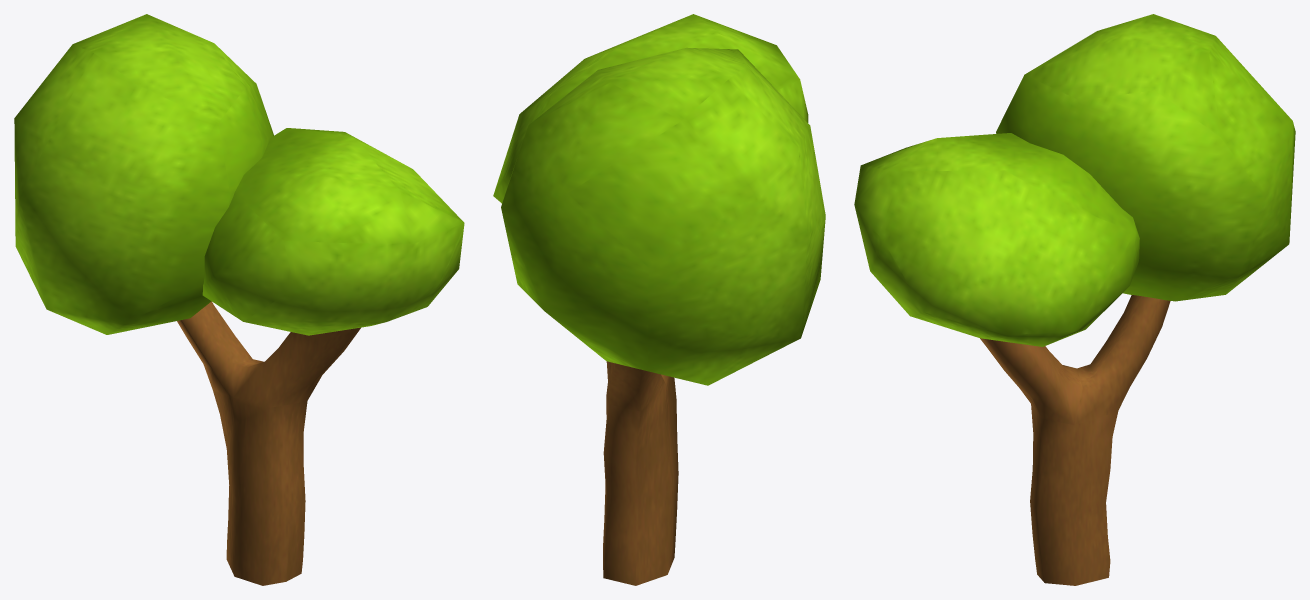
File: Tree_01.fbx
3 views of the same model, side by side, from view 1: azimuth 30°, elevation 25°; view 2: azimuth 150°, elevation 25°; view 3: azimuth 270°, elevation 25° (orthographic). The views are drawn at different scales.
Visible parts, largest first — view 1: Cube; view 2: Cube; view 3: Cube.
Boxes of the visible parts, <box> form: Cube: <box>14,14,464,585</box>; Cube: <box>493,14,825,585</box>; Cube: <box>854,14,1295,585</box>.
Bounding box in the file's own units: 449 × 648 × 518.
